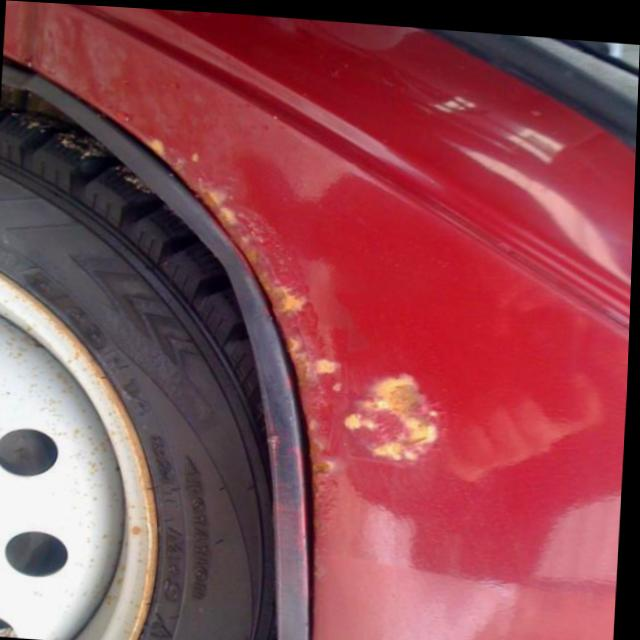Rust: (123, 121, 449, 581), (0, 276, 160, 640)
